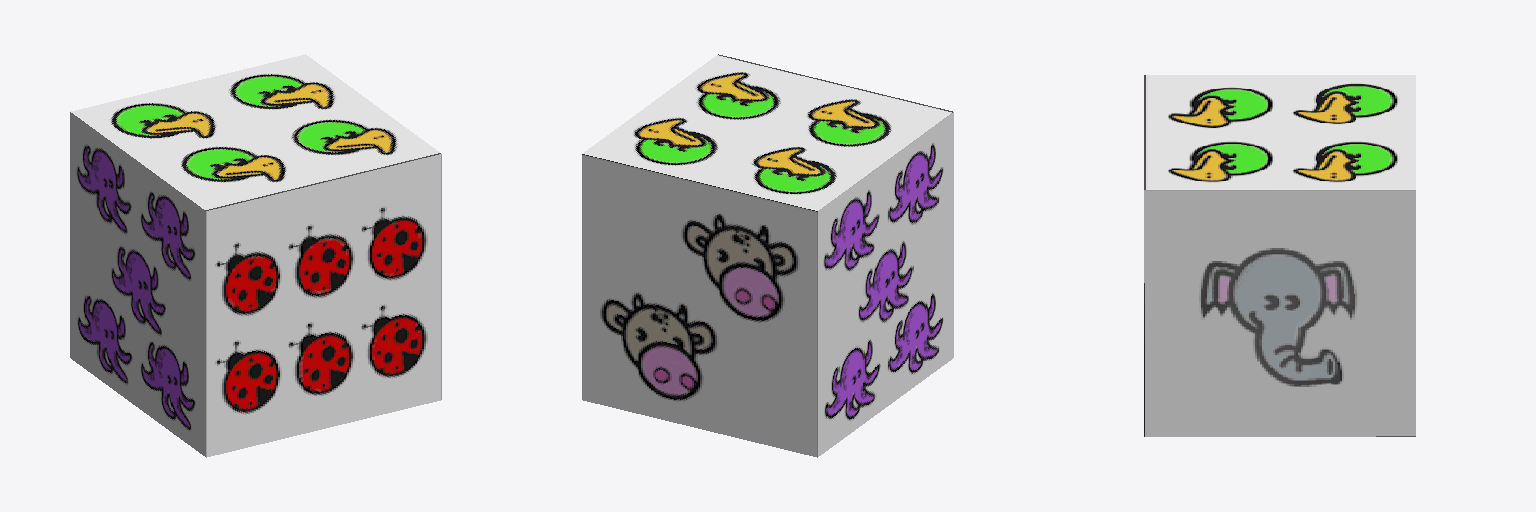
3 renders of one model, left to right at view 1: azimuth 30°, elevation 25°; view 2: azimuth 150°, elevation 25°; view 3: azimuth 270°, elevation 25°, orthographic.
Parts seen in each view (by area): view 1: Box001; view 2: Box001; view 3: Box001.
Part boxes in pixels (bbox=[...]): Box001: bbox=[70, 54, 441, 457]; Box001: bbox=[582, 54, 953, 457]; Box001: bbox=[1144, 75, 1415, 436].
Bounding box in the file's own units: 15.81 × 15.81 × 15.81.
Materials: 1 (1 with a texture image).